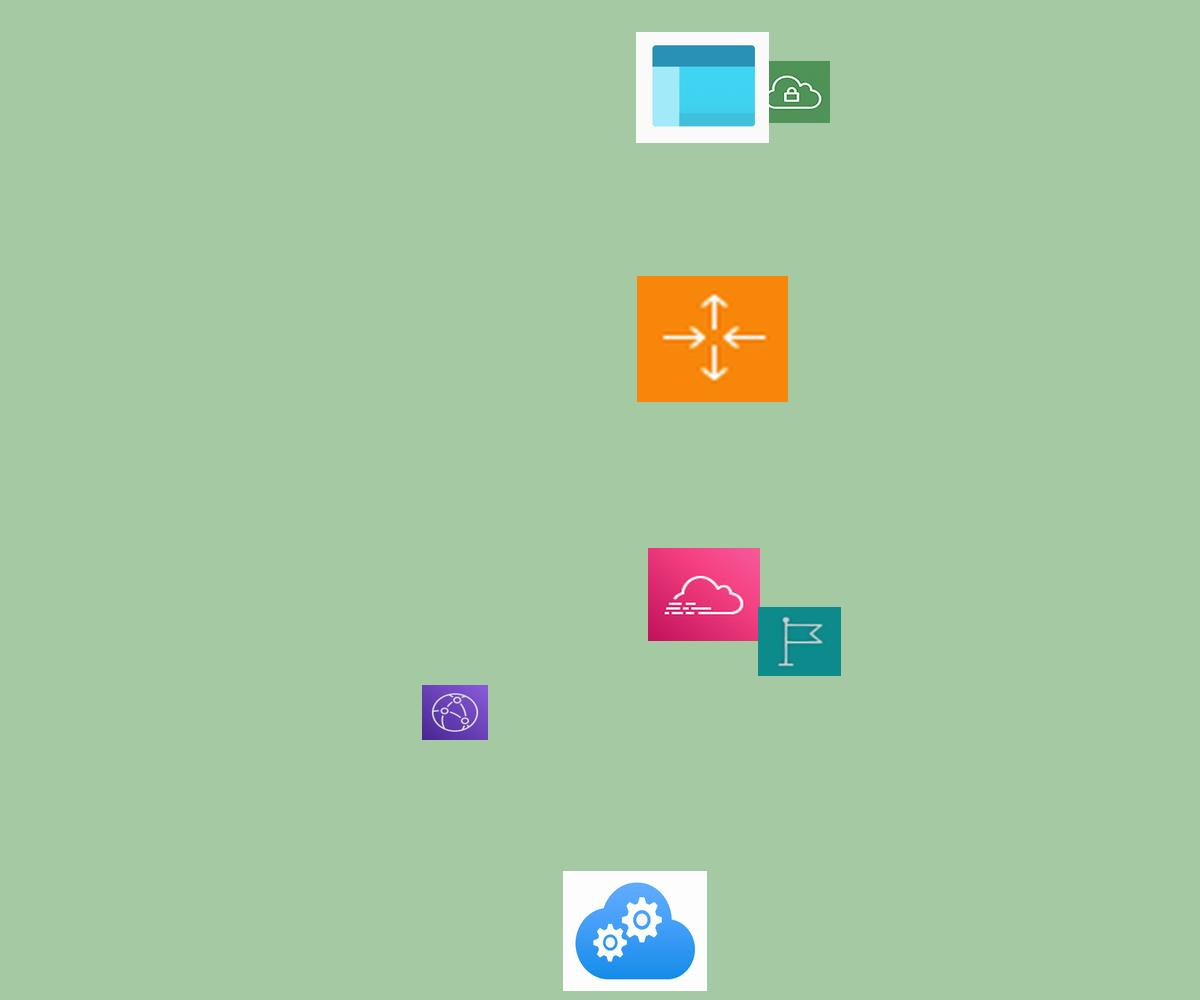AWS-CloudFront: (422, 685, 488, 740)
AWS-CloudTrail: (648, 548, 760, 641)
AWS-Private_vpc: (755, 61, 830, 123)
AWS-Region: (758, 607, 841, 676)
AWS-Scaling-group: (637, 276, 788, 402)
Azure_cloud_services: (563, 871, 707, 991)
Azure_management-portal: (636, 32, 769, 143)
